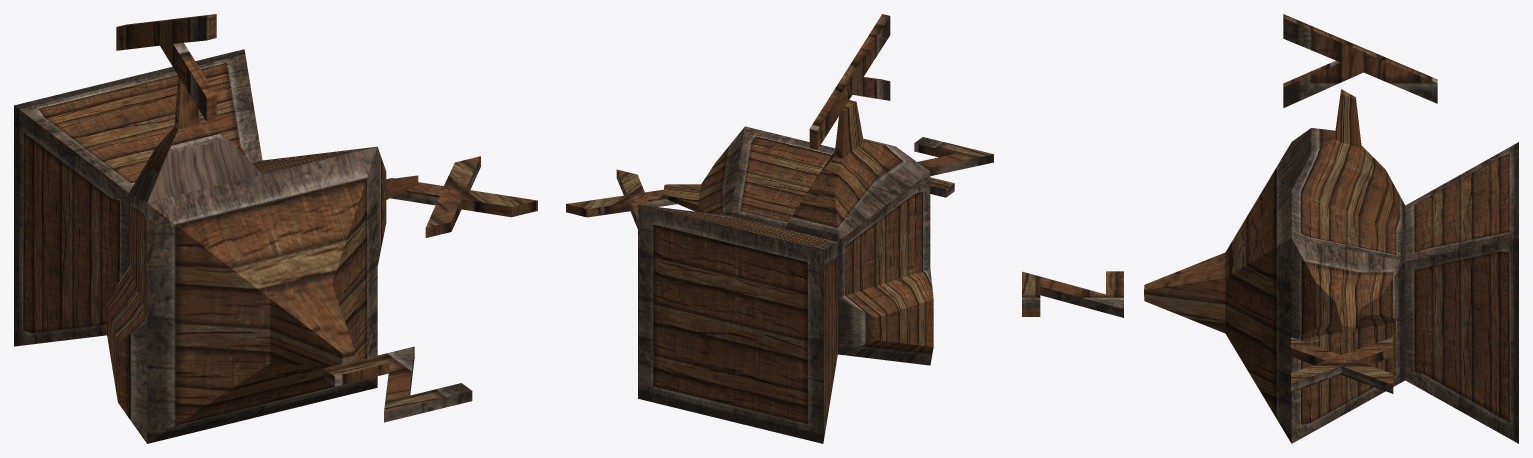
The picture shows the model from 3 angles, left to right: view 1: azimuth 30°, elevation 25°; view 2: azimuth 150°, elevation 25°; view 3: azimuth 270°, elevation 25°; orthographic projection. The views are drawn at different scales.
Visible parts, largest first — view 1: Cube; view 2: Cube; view 3: Cube.
Boxes of the visible parts, bbox=[...] form: Cube: bbox=[14, 14, 537, 443]; Cube: bbox=[566, 14, 993, 443]; Cube: bbox=[1022, 14, 1518, 443].
Bounding box in the file's own units: 1.78 × 1.73 × 2.19.
1 material, 1 textured.
